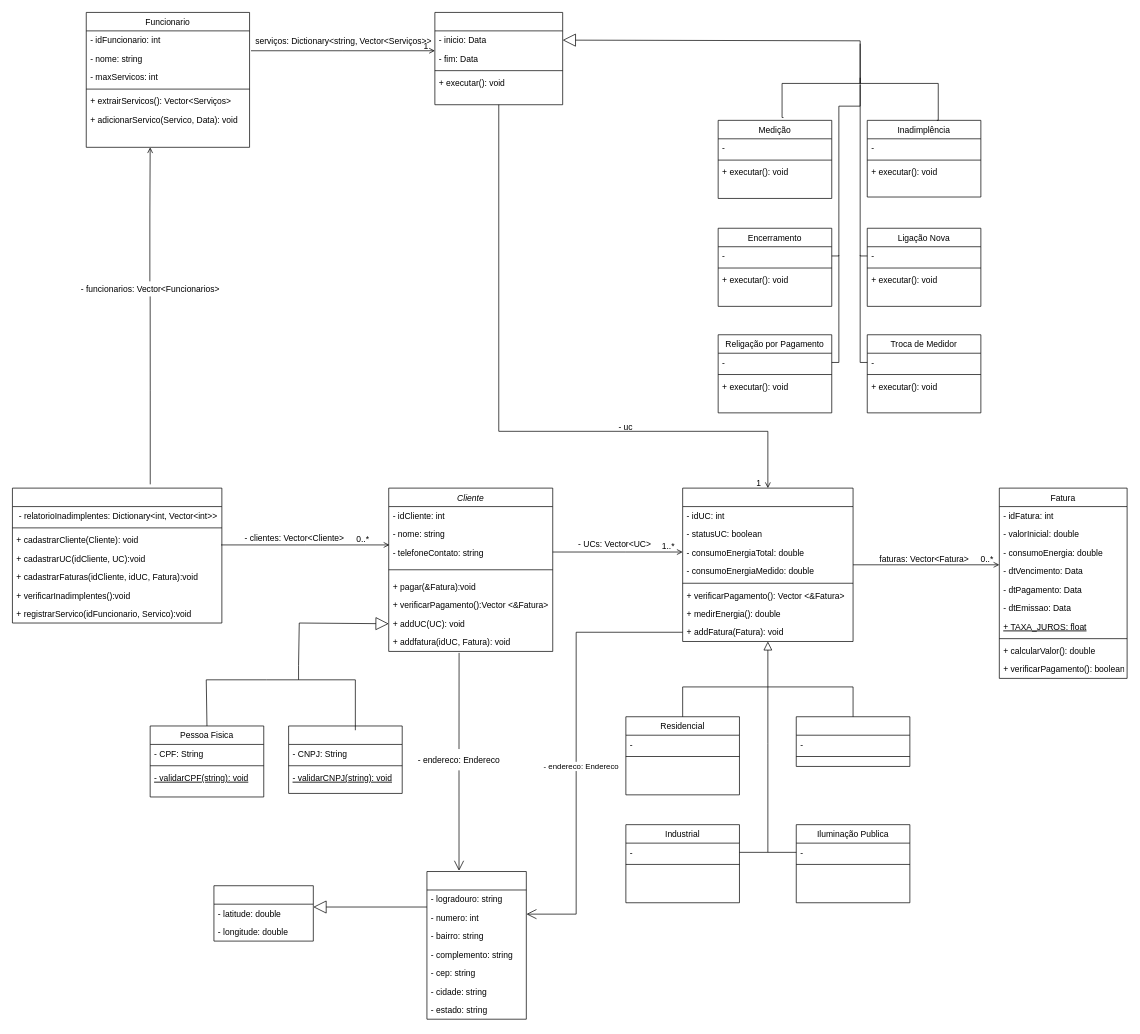
This 1140x1034 diagram has some shape labels left out. Each missing label, with the box of its shape:
Comercial: (796, 716, 910, 766)
Endereco: (426, 871, 526, 1019)
Gerencia: (12, 487, 222, 623)
LocalizacaoGeografica: (213, 885, 313, 941)
Pessoa Juridica: (288, 725, 402, 793)
Servico: (434, 12, 563, 105)
UC: (682, 487, 853, 641)
